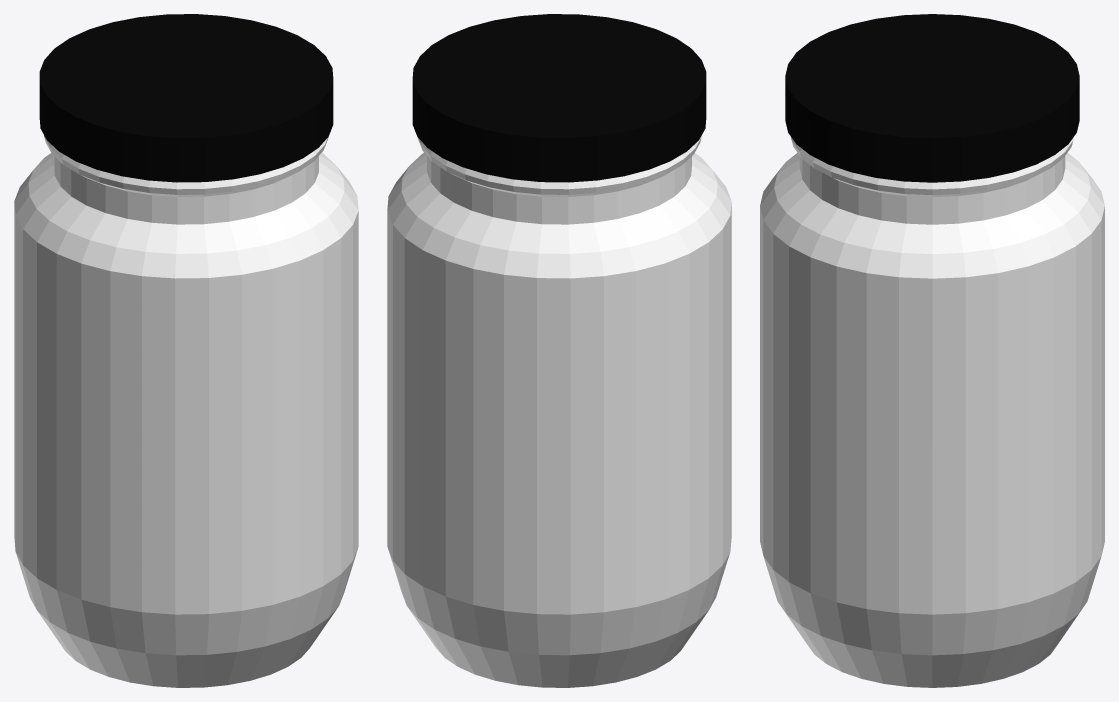
File: pote em conserva.fbx
The picture shows the model from 3 angles, left to right: view 1: azimuth 30°, elevation 25°; view 2: azimuth 150°, elevation 25°; view 3: azimuth 270°, elevation 25°; orthographic projection.
Visible parts, largest first — view 1: Cylinder; view 2: Cylinder; view 3: Cylinder.
Boxes of the visible parts, x1,y1,x2,y2 form: Cylinder: (14, 14, 358, 687); Cylinder: (387, 14, 731, 687); Cylinder: (760, 14, 1104, 687).
Size of the model in its own units: 221 by 395 by 221.
